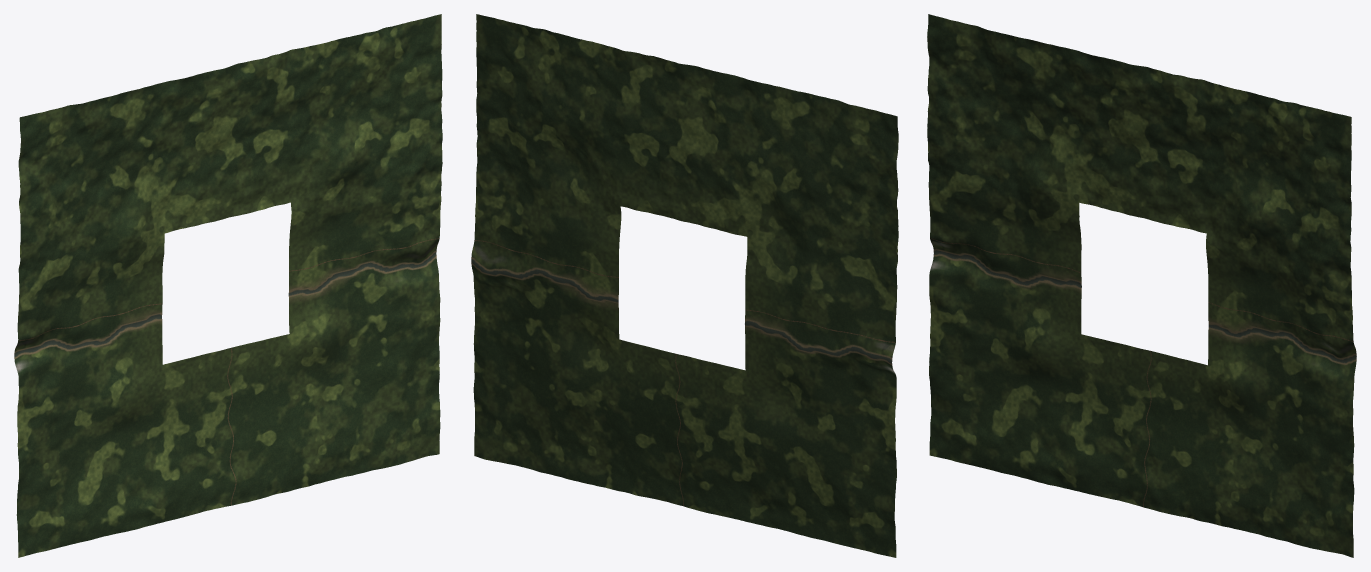
Rendered from outer.obj.
3 renders of one model, left to right at view 1: azimuth 30°, elevation 25°; view 2: azimuth 150°, elevation 25°; view 3: azimuth 330°, elevation 25°, orthographic.
Size of the model in its own units: 4000 by 4000 by 118.
1 material, 1 textured.
